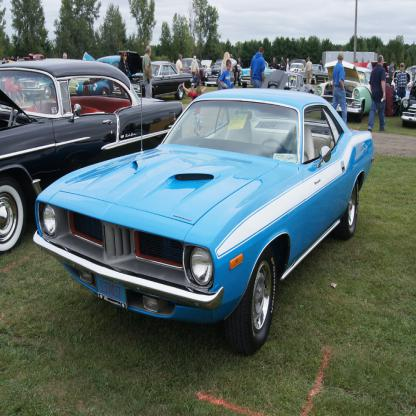Car: (30, 84, 372, 349), (0, 55, 184, 255), (322, 59, 378, 124), (130, 57, 193, 102), (238, 60, 281, 84), (399, 68, 416, 124), (207, 59, 242, 81)
